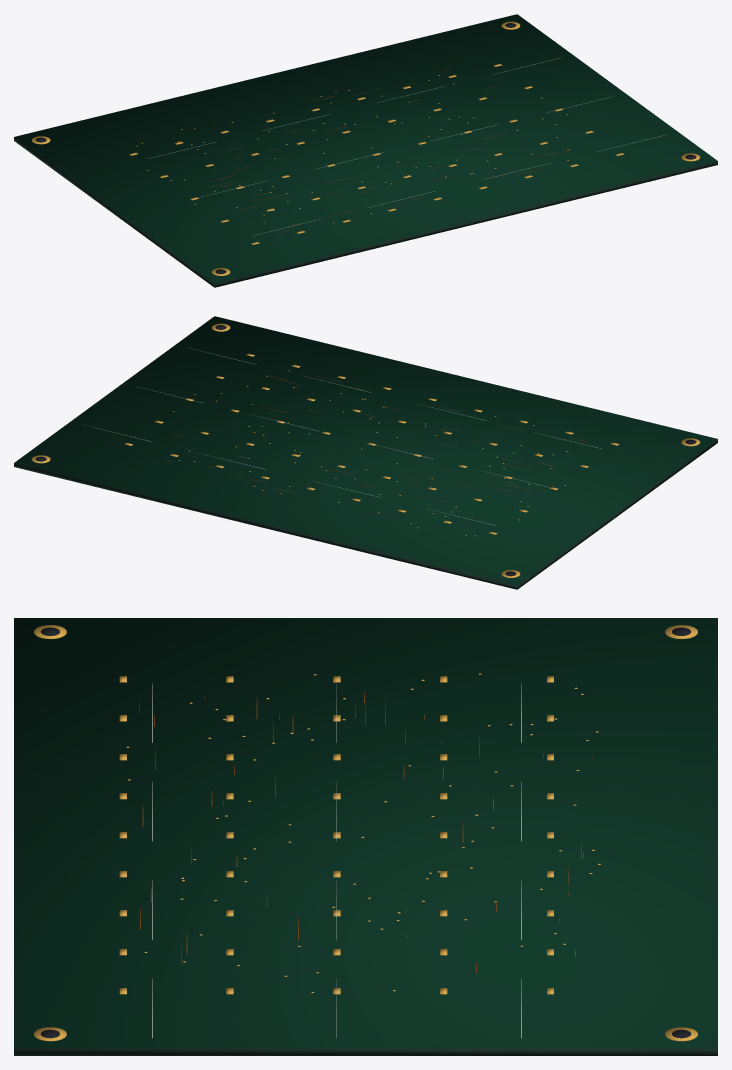
File: 071_L100_DNX8_Empty_FourLayer_PCB.fbx
The picture shows the model from 3 angles, top to bottom: view 1: azimuth 30°, elevation 25°; view 2: azimuth 150°, elevation 25°; view 3: azimuth 270°, elevation 25°; orthographic projection. The views are drawn at different scales.
Parts seen in each view (by area): view 1: Part_001, Part_000; view 2: Part_001, Part_000; view 3: Part_001, Part_000.
Boxes of the visible parts, <box> form: Part_001: <box>15,14,717,283</box>; Part_000: <box>14,15,717,287</box>; Part_001: <box>14,316,716,585</box>; Part_000: <box>14,317,717,589</box>; Part_001: <box>14,618,717,1048</box>; Part_000: <box>14,618,717,1055</box>.
Bounding box in the file's own units: 0.21 × 0.145 × 0.00175.
